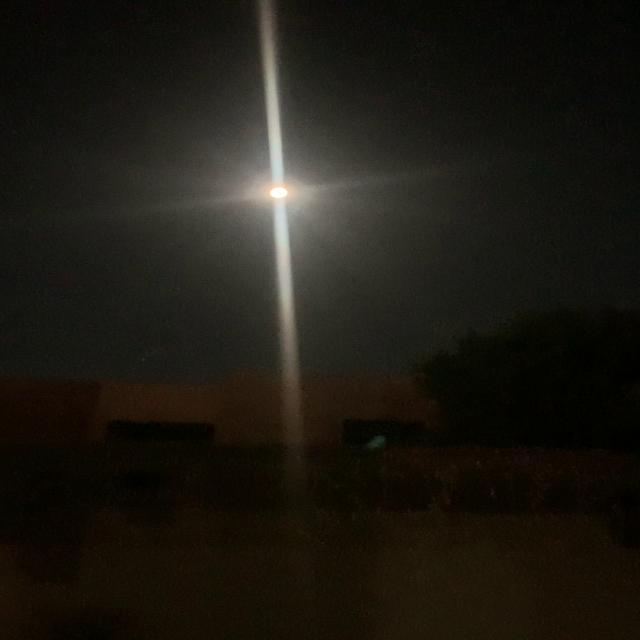moon: (244, 176, 306, 208)
